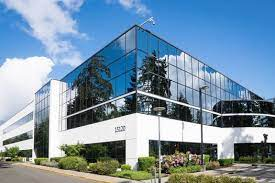Building House: (18, 24, 254, 163)
